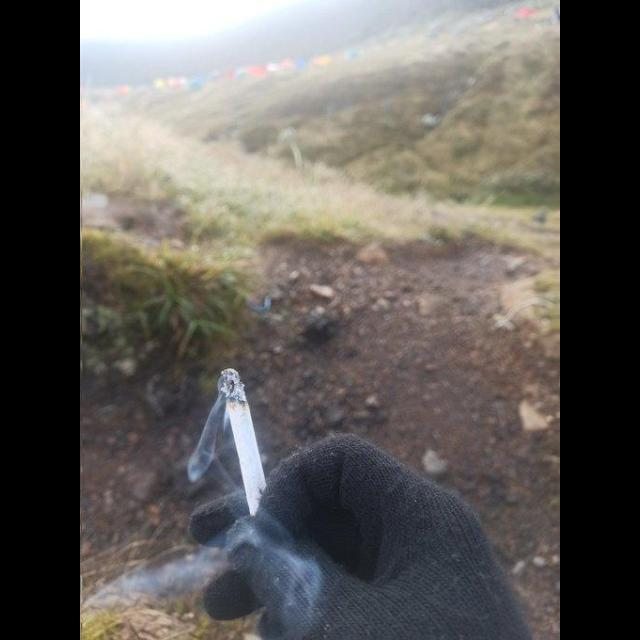rokok: (218, 365, 272, 523)
